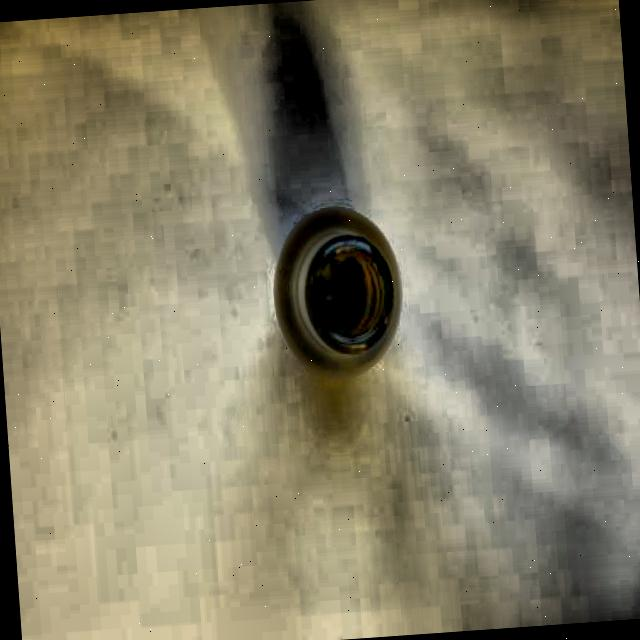glass: (261, 197, 409, 385)
